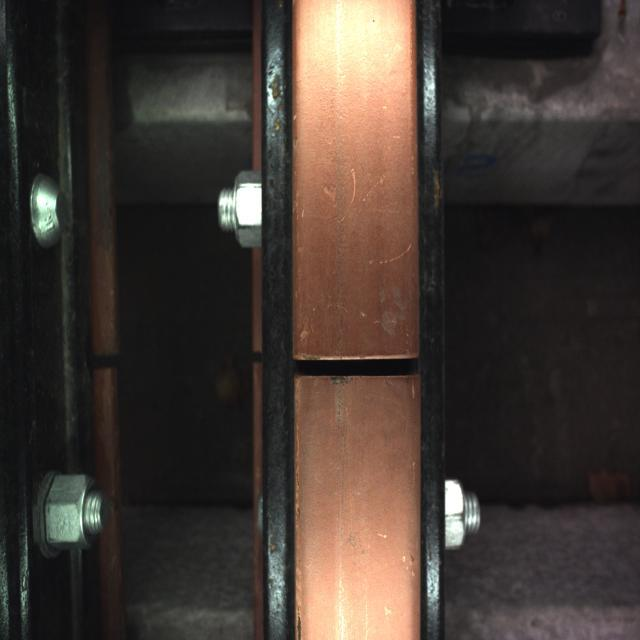spalling: (274, 320, 445, 418)
